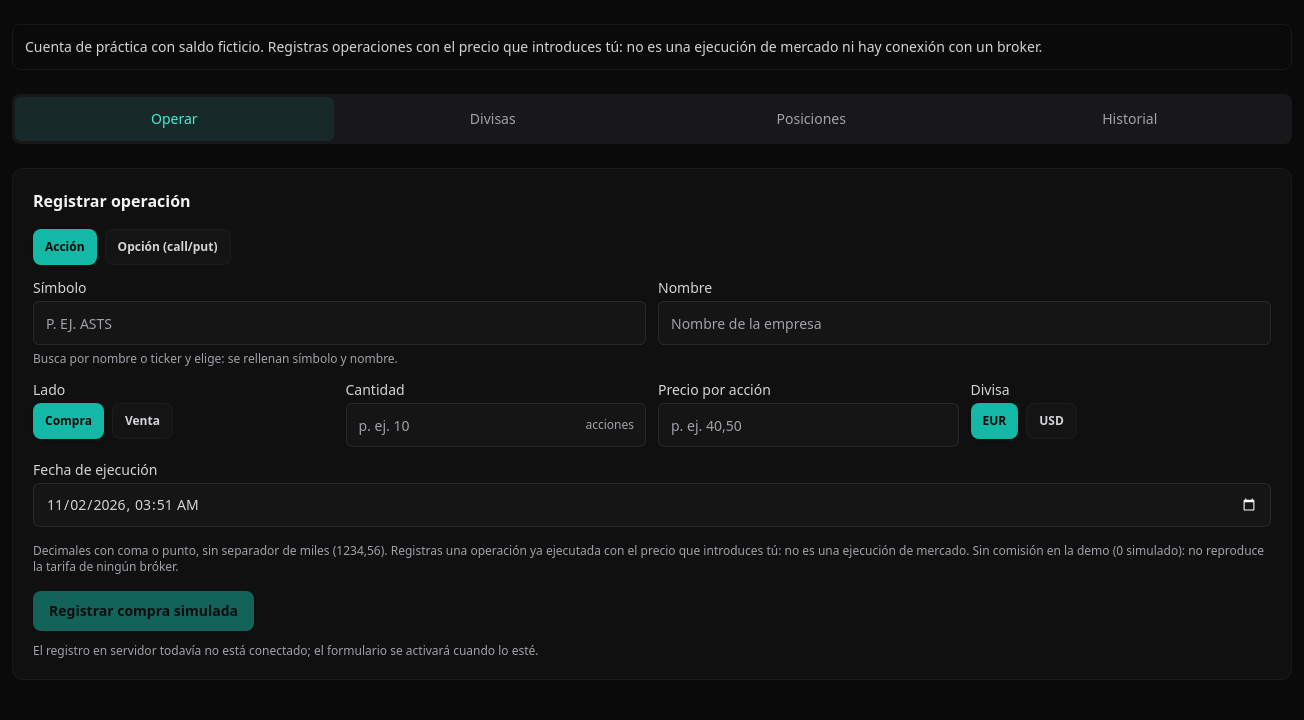
Test case: ManualDemoPanel (cuenta demo manual) › sin cuenta conectada los tickets quedan deshabilitados y se explica por qué
Expected: the button "Registrar compra simulada" is disabled, [33,591,254,631]
Expected: the text "El registro en servidor todavía no está conectado" is shown, [33,642,538,659]
Press the mouse on the tab "Divisas" at (493, 119), box [334,97,652,141]
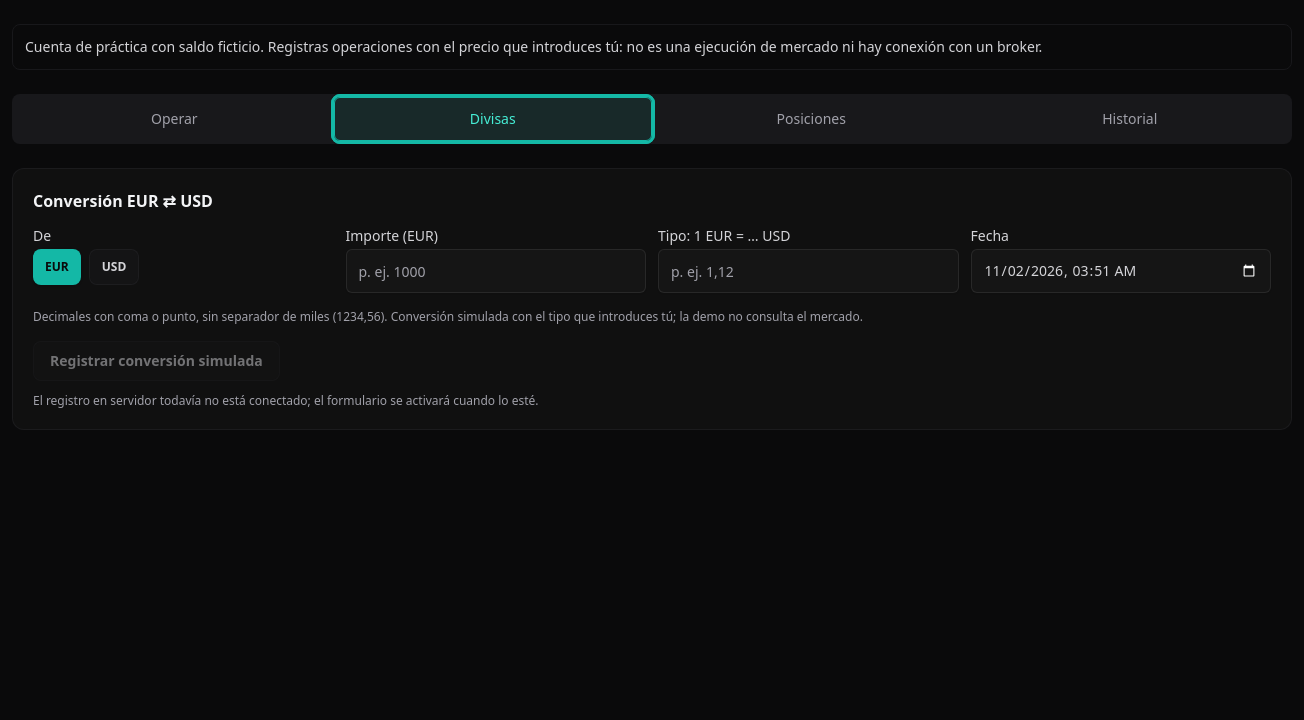
Expected: the text "El registro en servidor todavía no está conectado" is shown, [33,392,538,409]
Expected: the button "Registrar conversión simulada" is disabled, [33,341,280,381]
